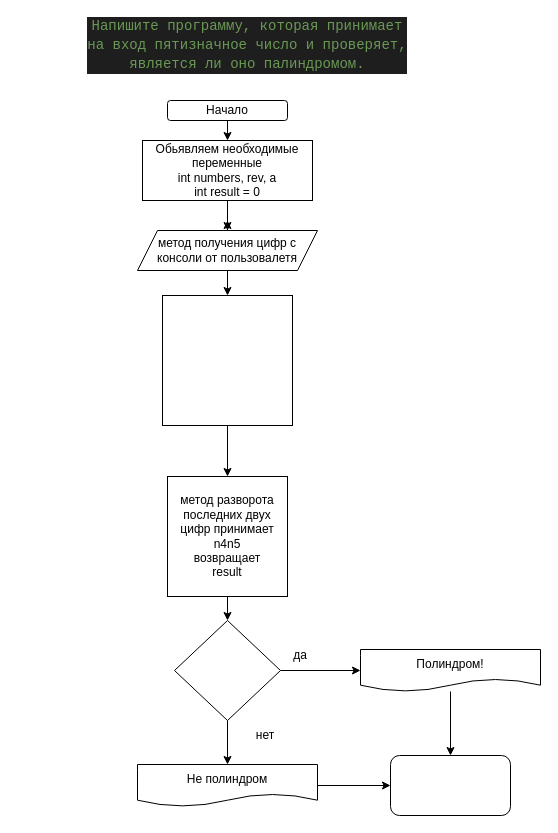
This 558x833 diagram has some shape labels left out. The shapes that lost their labels are listed below. From the top down, each one's box as (x1, y1, x2, y2) in pixels, then its label:
(162, 294, 292, 426): получение первых вдух цифр и последних двух цифр n1n2, n4n5
(174, 620, 280, 720): n1n2 == result
(390, 754, 510, 816): Конец
